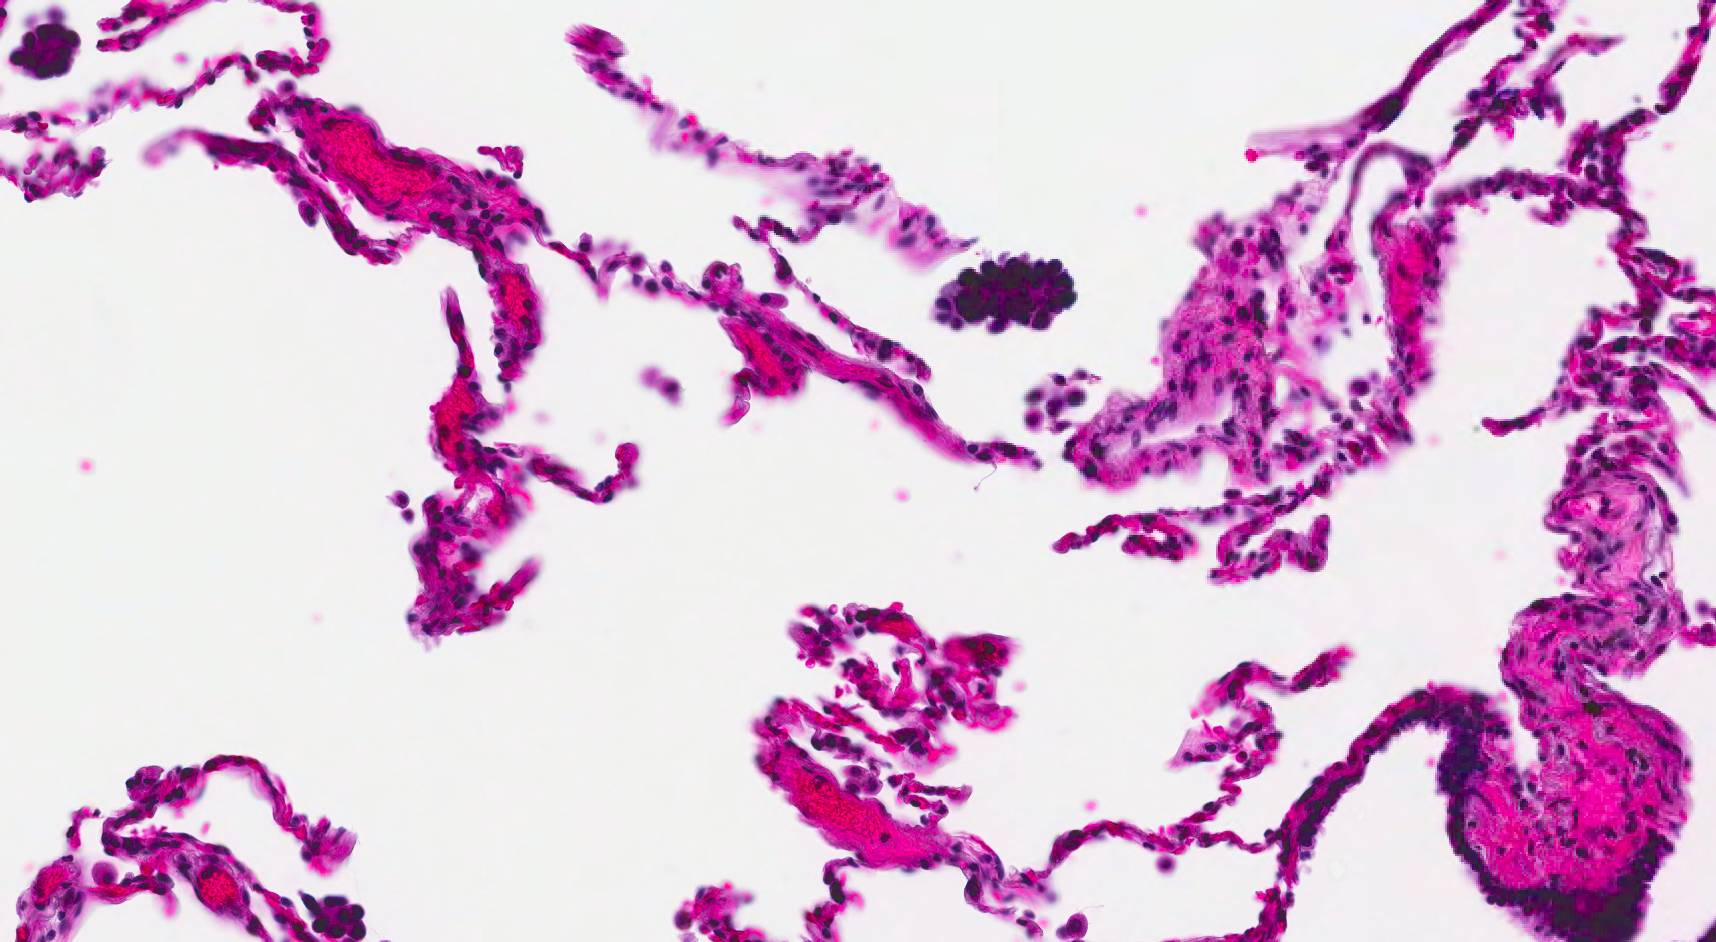stas: (930, 249, 1082, 337), (5, 20, 84, 81), (305, 891, 370, 942)
